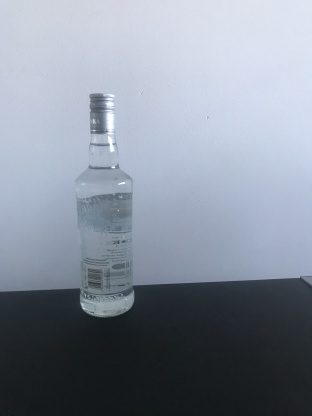nakretka: (86, 91, 117, 135)
